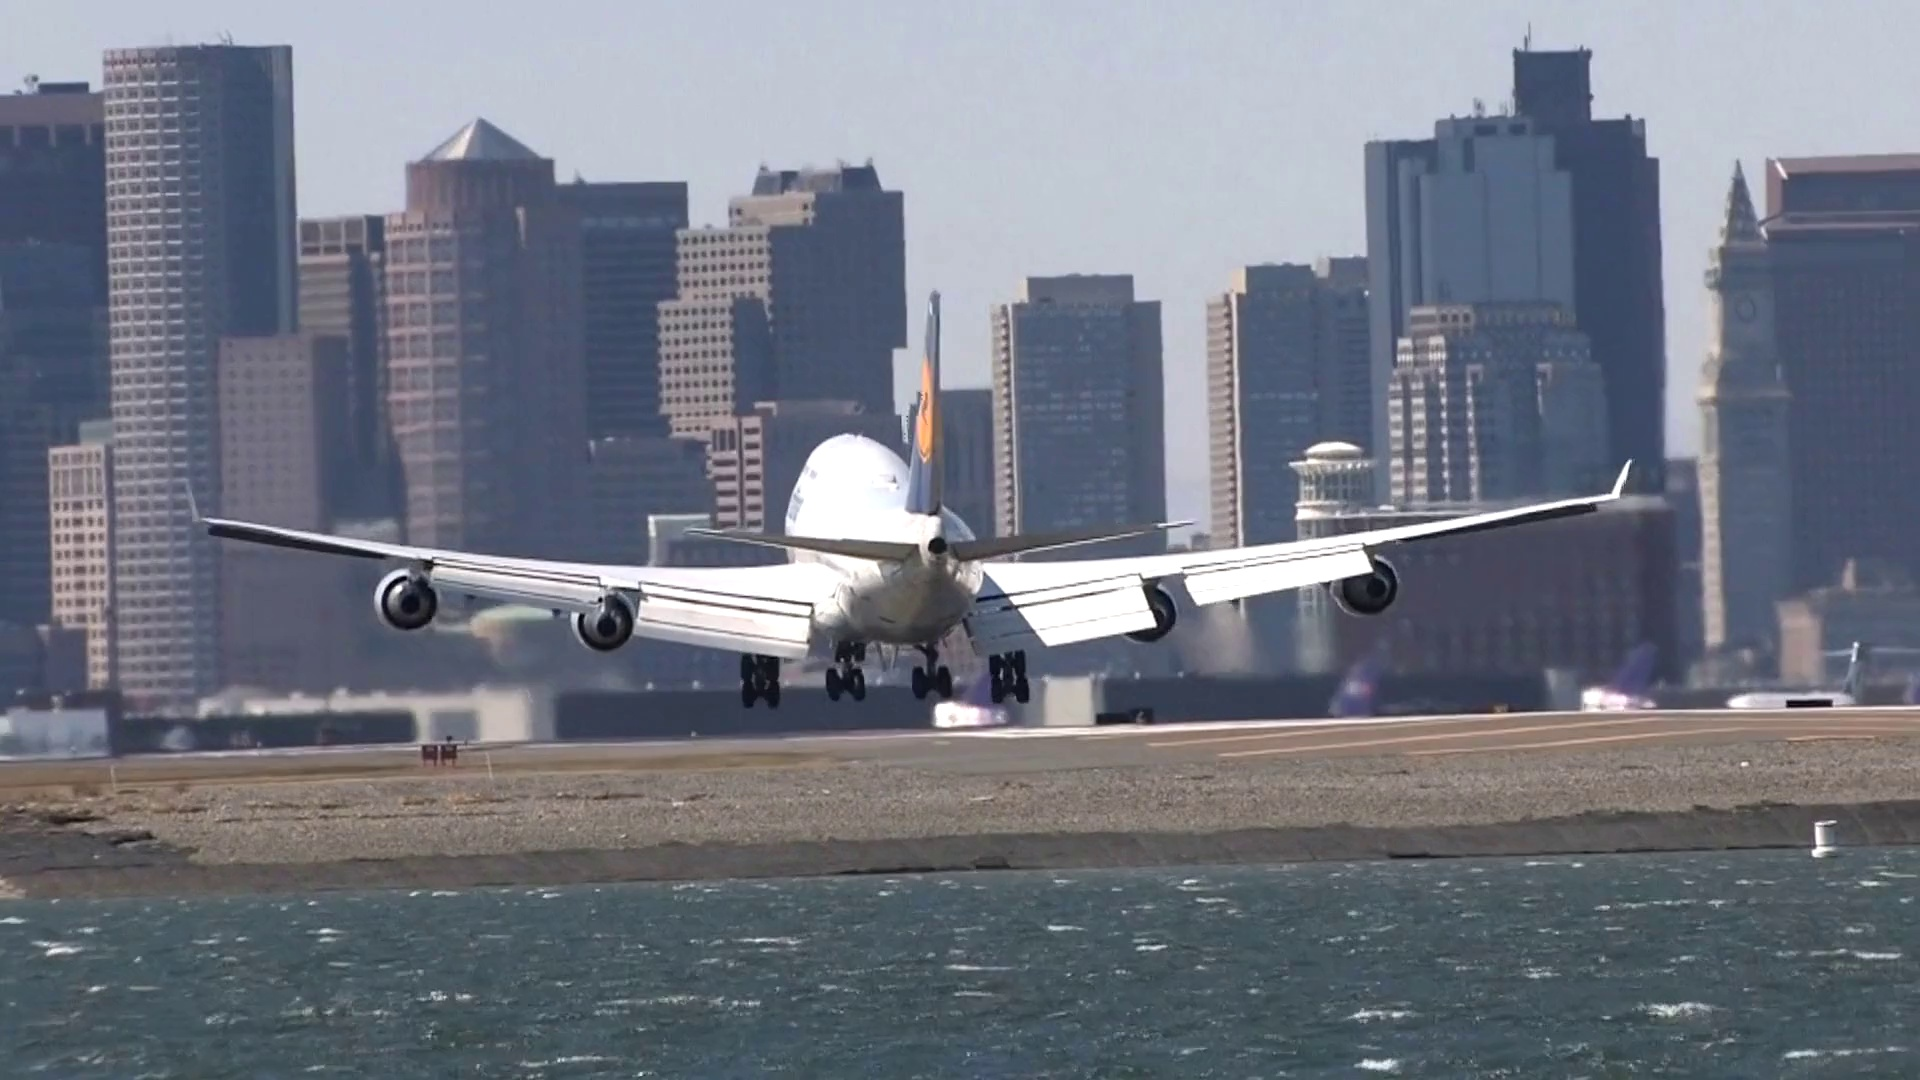plane: (185, 287, 1636, 711)
